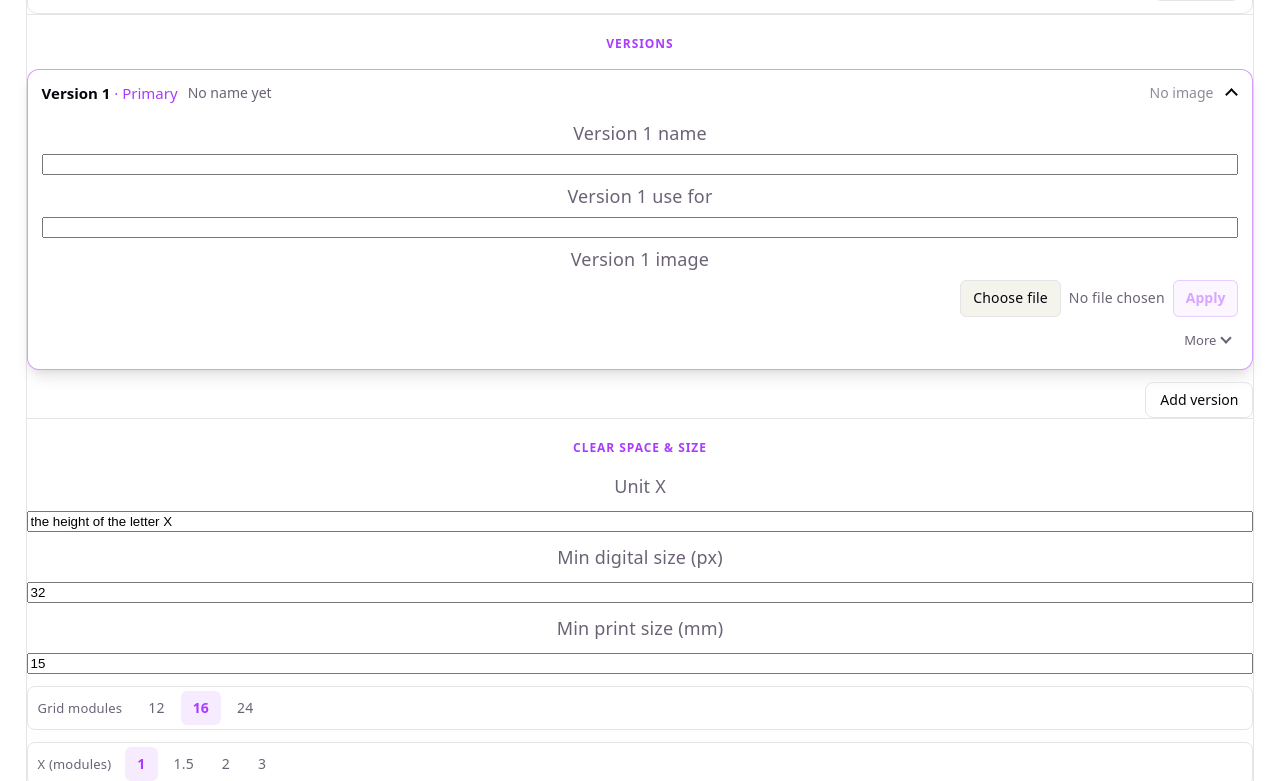
Test: Logo section – form › adds versions as an accordion, up to 4
(page scrolled)
Step 1. Click the button "Add version" → (1199,400), box [1145,382,1253,418]
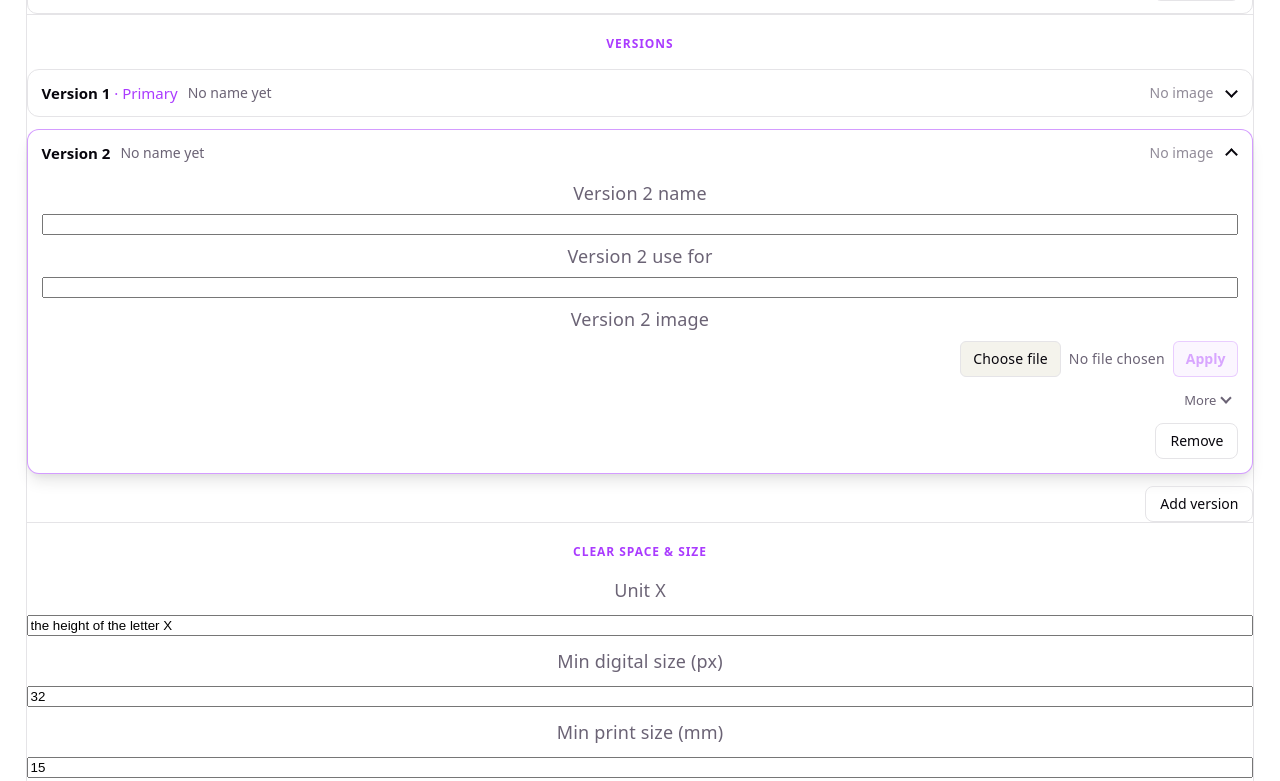
expect the button "Version 1 · Primary No name yet No image" is collapsed: met, box [28,70,1252,116]
Step 2. Click the button "Add version" → (1199,504), box [1145,486,1253,522]
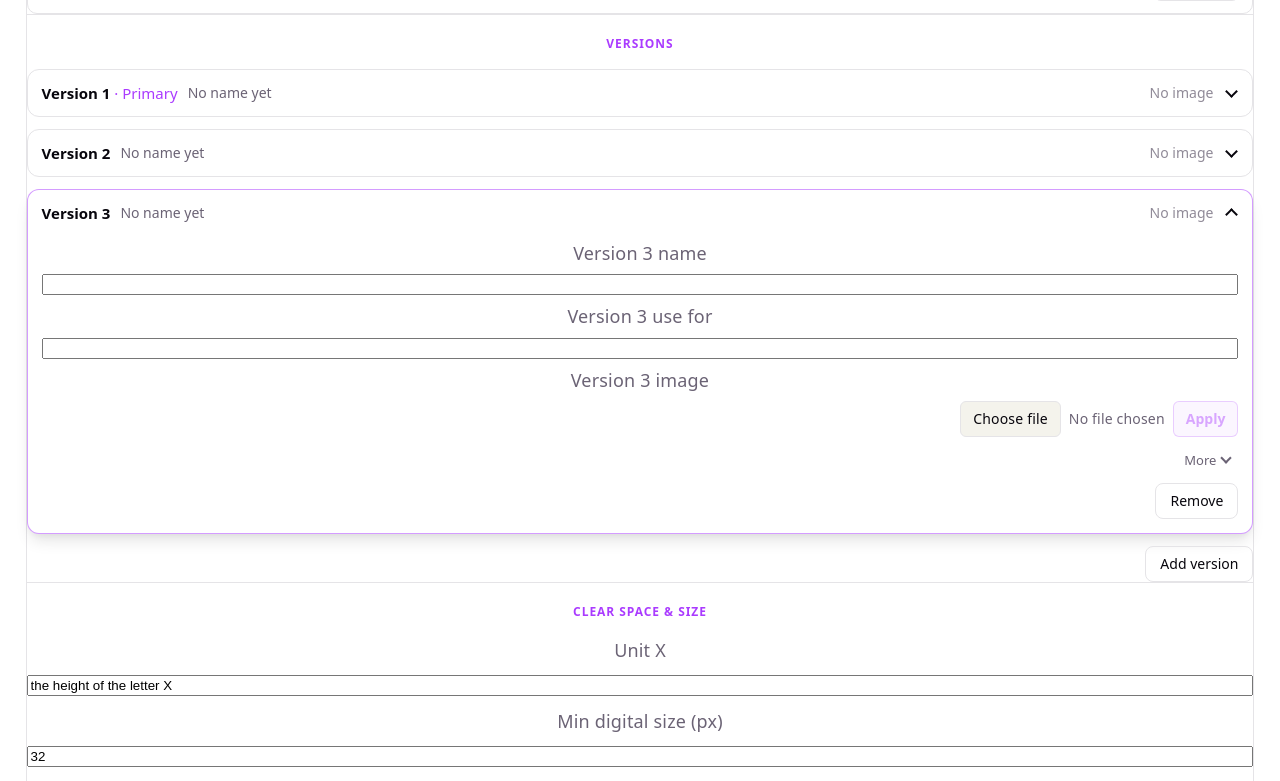
Step 3. Click the button "Add version" → (1199,564), box [1145,546,1253,582]
(page scrolled)
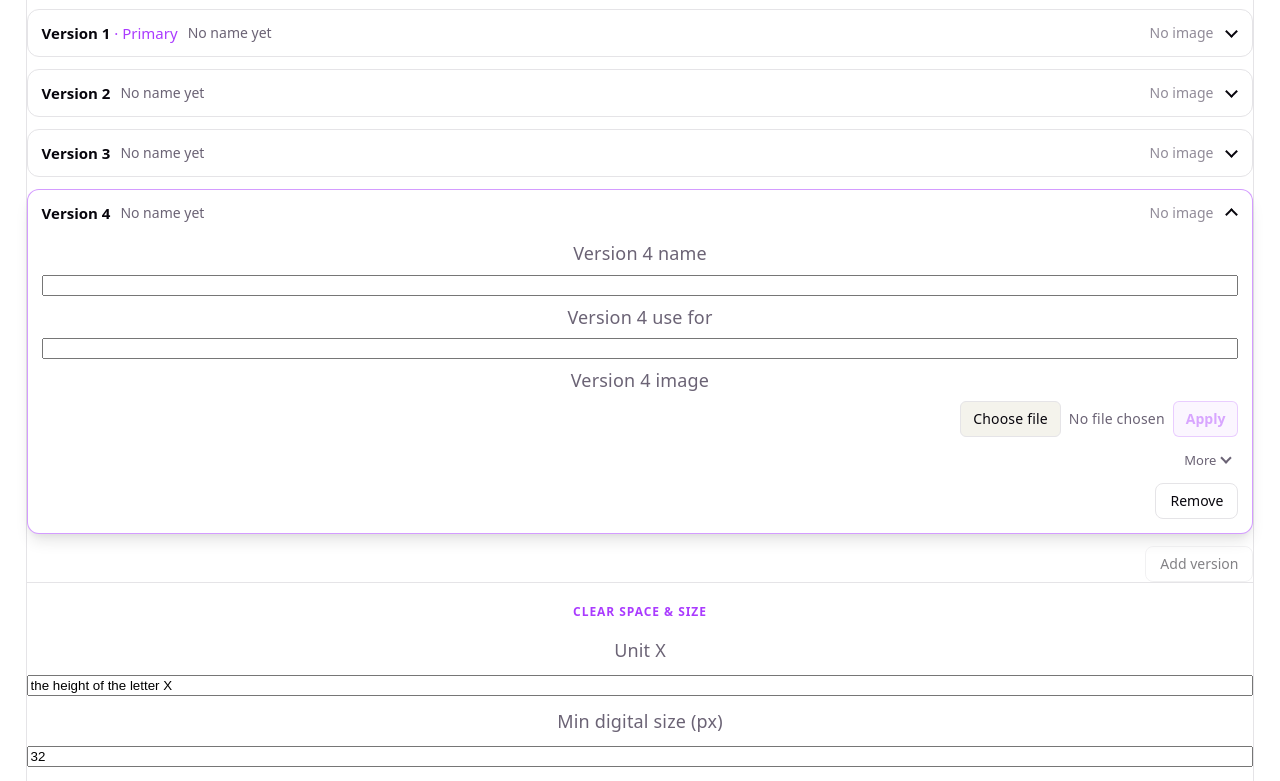
expect the button "Add version" is disabled: met, box [1145,546,1253,582]
